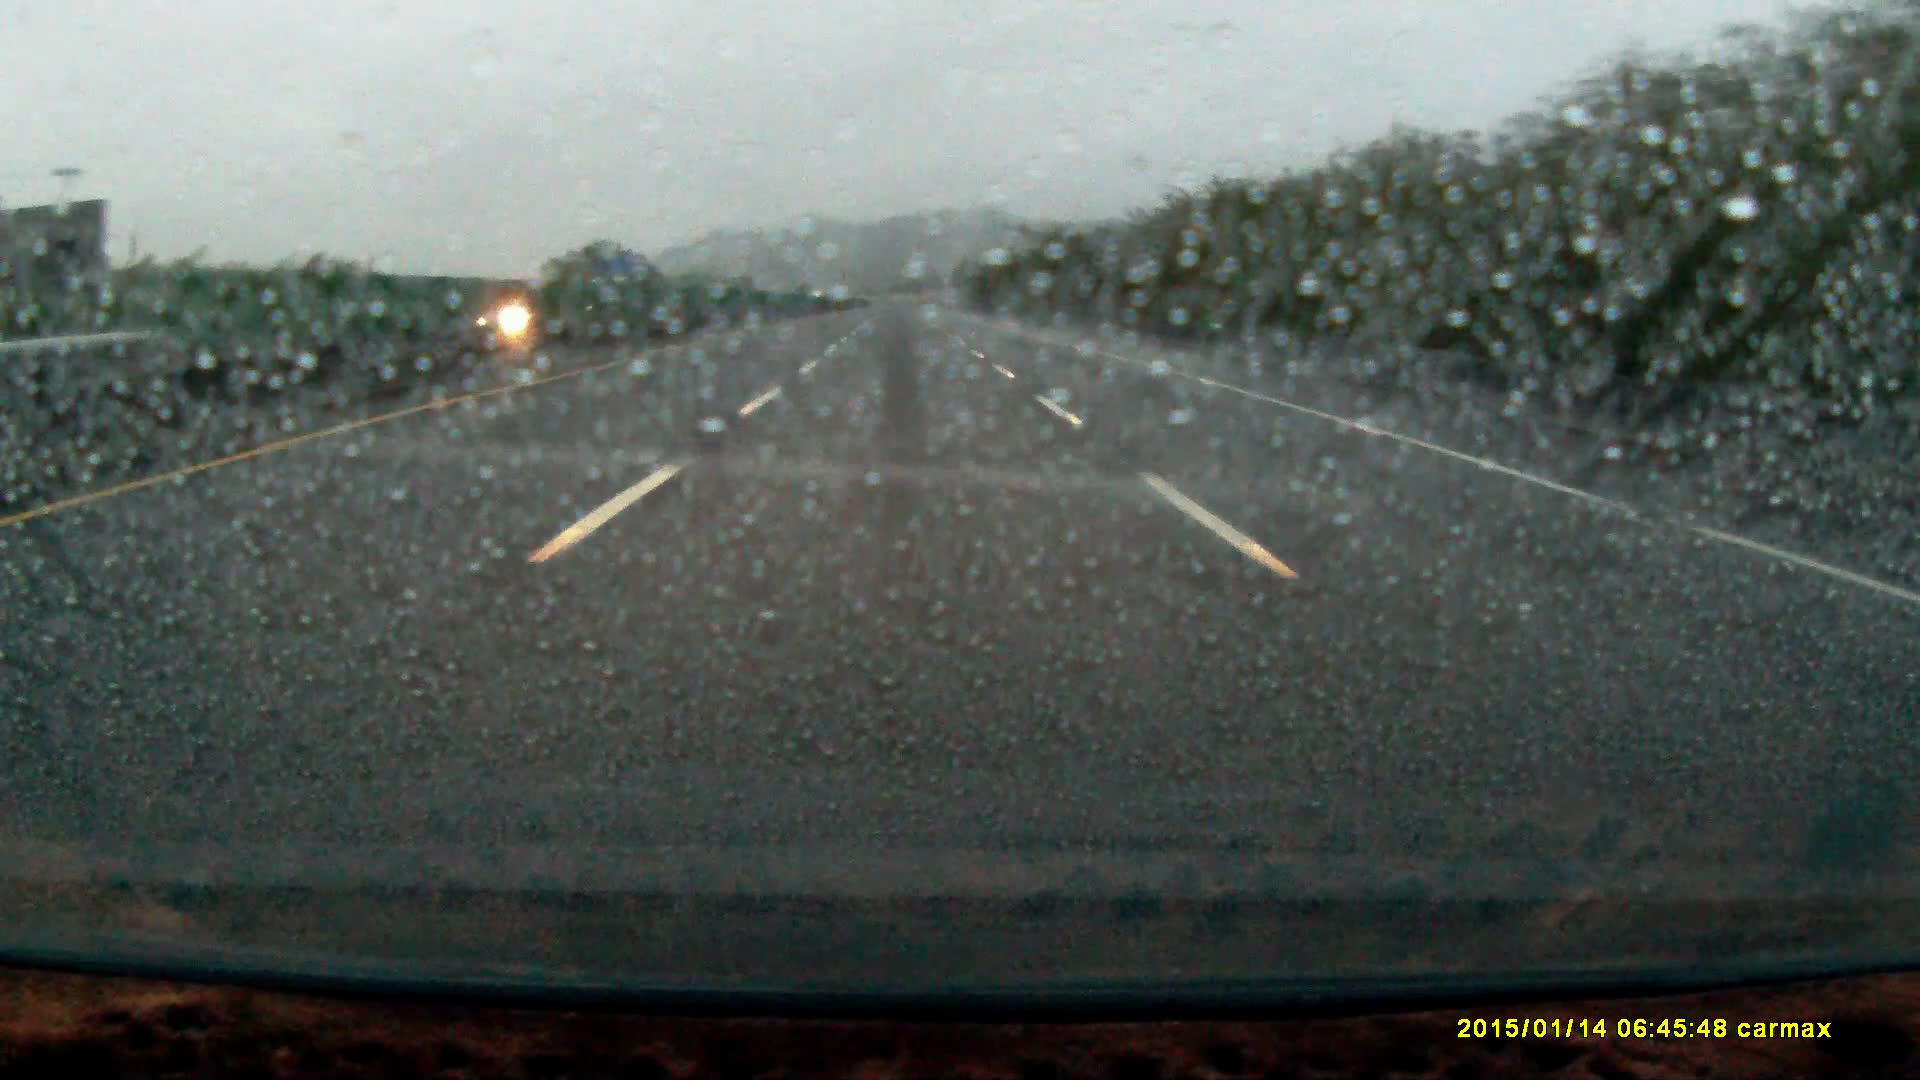vehicle: (477, 305, 535, 332)
